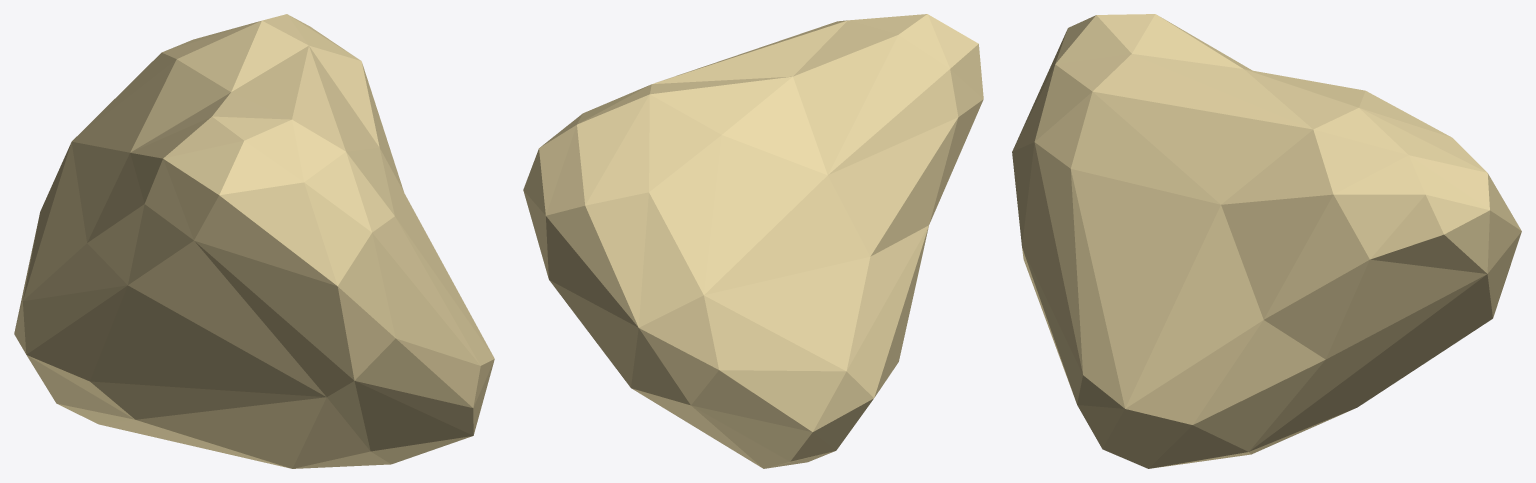
File: Rock (2).fbx
3 renders of one model, left to right at view 1: azimuth 30°, elevation 25°; view 2: azimuth 150°, elevation 25°; view 3: azimuth 270°, elevation 25°, orthographic. The views are drawn at different scales.
Parts seen in each view (by area): view 1: Asteroid1; view 2: Asteroid1; view 3: Asteroid1.
Part boxes in pixels (<box>): Asteroid1: <box>14,14,494,468</box>; Asteroid1: <box>523,14,983,468</box>; Asteroid1: <box>1012,14,1521,468</box>.
Bounding box in the file's own units: 113 × 124 × 153.
